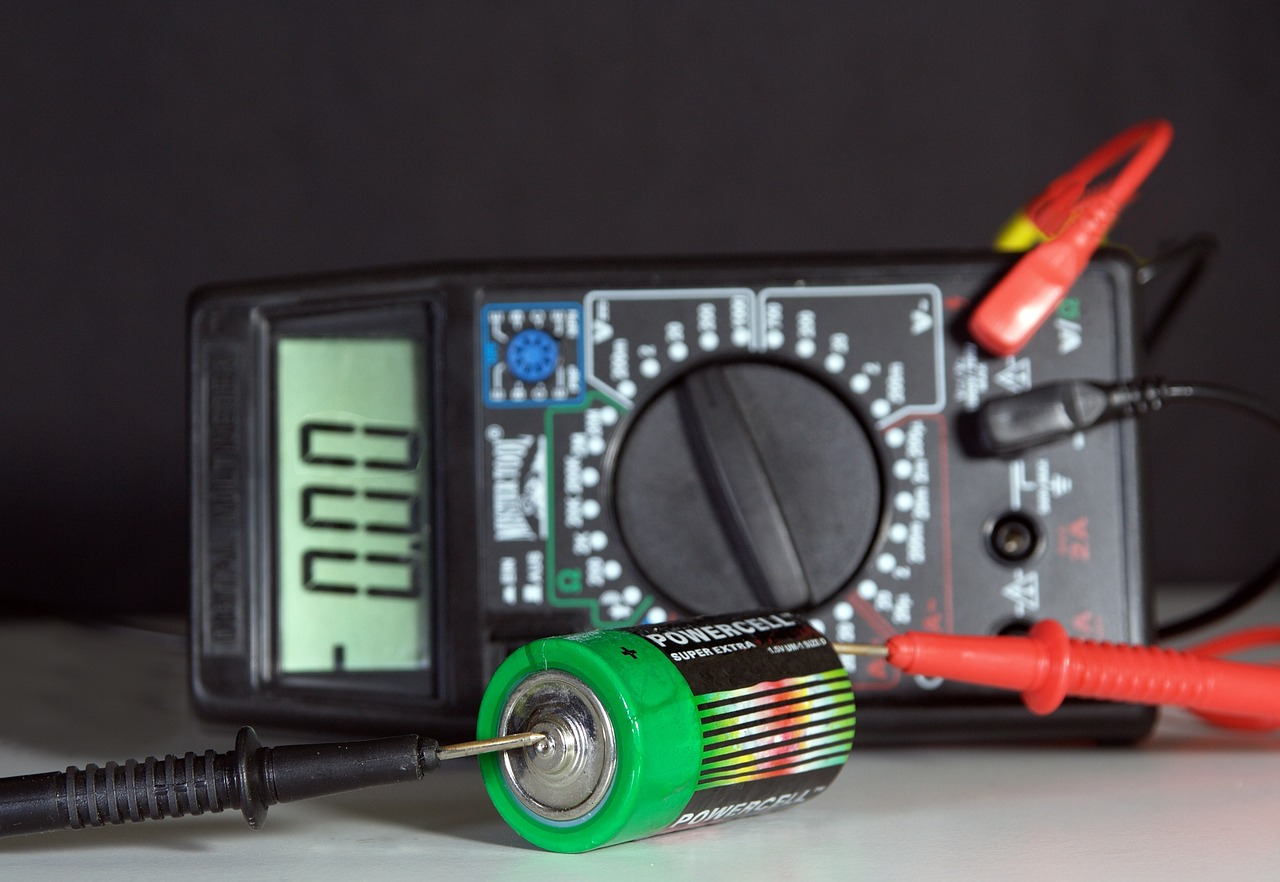Battery: (468, 600, 866, 860)
